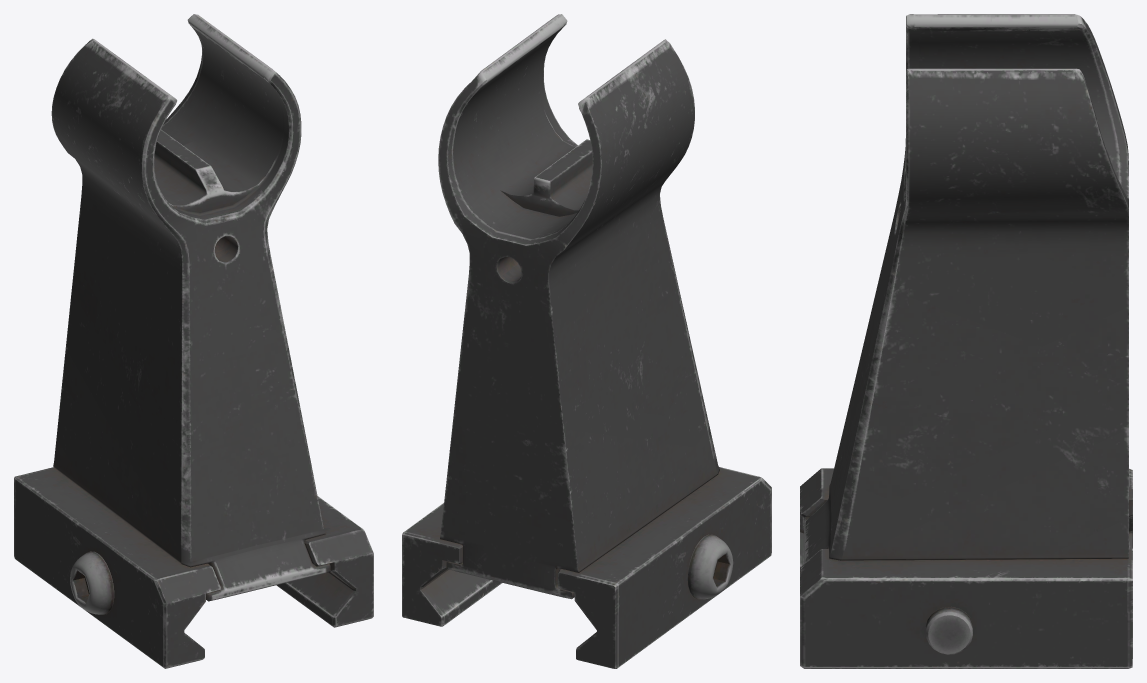
The model's file is IronSights_2_F.glb.
3 views of the same model, side by side, from view 1: azimuth 30°, elevation 25°; view 2: azimuth 150°, elevation 25°; view 3: azimuth 270°, elevation 25° (orthographic). The views are drawn at different scales.
Visible parts, largest first — view 1: IronSights_2_F; view 2: IronSights_2_F; view 3: IronSights_2_F.
Boxes of the visible parts, x1,y1,x2,y2 form: IronSights_2_F: [14, 14, 373, 668]; IronSights_2_F: [402, 14, 771, 668]; IronSights_2_F: [800, 14, 1132, 668].
Bounding box in the file's own units: 0.0307 × 0.0644 × 0.0339.
Materials: 1 (1 with a texture image).
